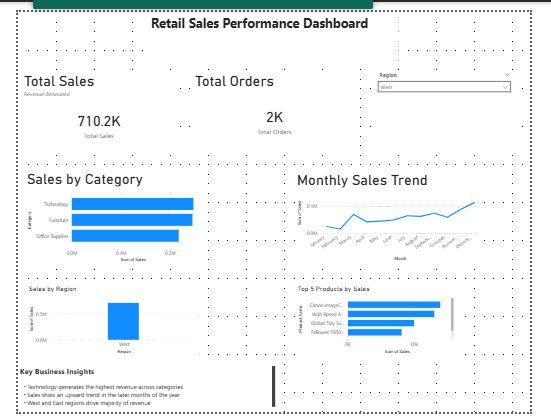

Layout of this report page (visuals, bound fields, positions):
{"tool":"powerbi","page":{"name":"Sales Overview","canvas":[1280,1000],"ordinal":0},"visuals":[{"type":"textbox","box":[328,0,624,128],"z":0},{"type":"card","title":"Total Sales","fields":{"Values":["train.Total Sales"]},"box":[11,150,385,198.3],"z":1000},{"type":"card","title":"Total Orders","fields":{"Values":["train.Total Orders"]},"box":[438.3,150,408.3,198.3],"z":2000},{"type":"clusteredBarChart","title":"Sales by Category","fields":{"Category":["train.Category"],"Y":["Sum(train.Sales)"]},"box":[16.5,395.1,443.3,235],"z":3000},{"type":"lineChart","title":"Monthly Sales Trend","fields":{"Y":["Sum(train.Sales)"],"Category":["train.Order Date.Variation.Date Hierarchy.Month"]},"box":[691.5,398.4,466.7,228.3],"z":4000},{"type":"slicer","fields":{"Values":["train.Region"]},"box":[890.5,145,352,208],"z":5000},{"type":"clusteredBarChart","title":"Top 5 Products by Sales","fields":{"Category":["train.Product Name"],"Y":["Sum(train.Sales)"]},"box":[694,682,400,176],"z":6000},{"type":"clusteredColumnChart","title":"Sales by Region","fields":{"Category":["train.Region"],"Y":["Sum(train.Sales)"]},"box":[23.5,682.7,432,176],"z":7000},{"type":"textbox","box":[0,880,648,120],"z":8501}]}

Visuals, with their boxes in screenshot pixels (x1, y1, x2, y2), scaled from the page's 1280x1000 canvas onto the 551x420 screenshot:
textbox: [x1=141, y1=0, x2=410, y2=54]
"Total Sales" card: [x1=5, y1=63, x2=170, y2=146]
"Total Orders" card: [x1=189, y1=63, x2=364, y2=146]
"Sales by Category" clusteredBarChart: [x1=7, y1=166, x2=198, y2=265]
"Monthly Sales Trend" lineChart: [x1=298, y1=167, x2=499, y2=263]
slicer - train.Region: [x1=383, y1=61, x2=535, y2=148]
"Top 5 Products by Sales" clusteredBarChart: [x1=299, y1=286, x2=471, y2=360]
"Sales by Region" clusteredColumnChart: [x1=10, y1=287, x2=196, y2=361]
textbox: [x1=0, y1=370, x2=279, y2=419]
